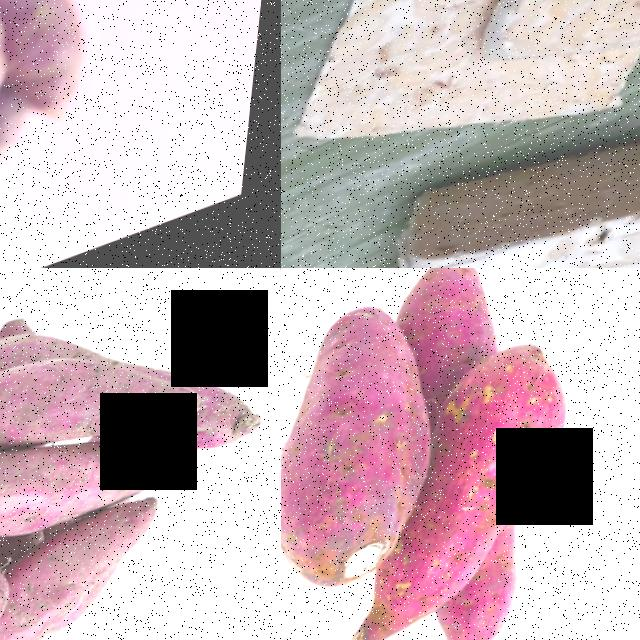sweet potato: (281, 291, 480, 580), (408, 328, 611, 546), (0, 306, 212, 485), (0, 495, 194, 640), (0, 413, 160, 565), (0, 0, 129, 138), (337, 540, 497, 640), (386, 268, 512, 379), (135, 388, 281, 480), (434, 554, 551, 640), (0, 82, 32, 201)
tempeh: (354, 81, 640, 268), (281, 0, 543, 175), (462, 0, 640, 120)
